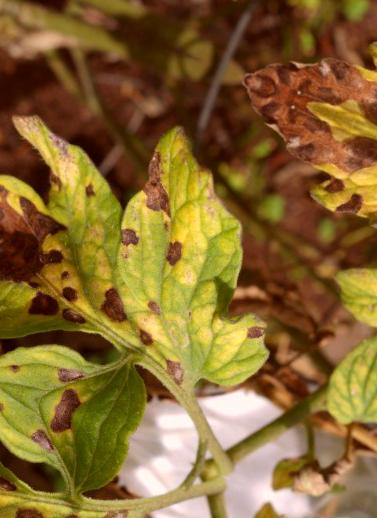Tomato leaf bacterial spot: (64, 118, 333, 421), (156, 55, 377, 264), (0, 300, 164, 441), (316, 314, 377, 448), (326, 229, 377, 353)
